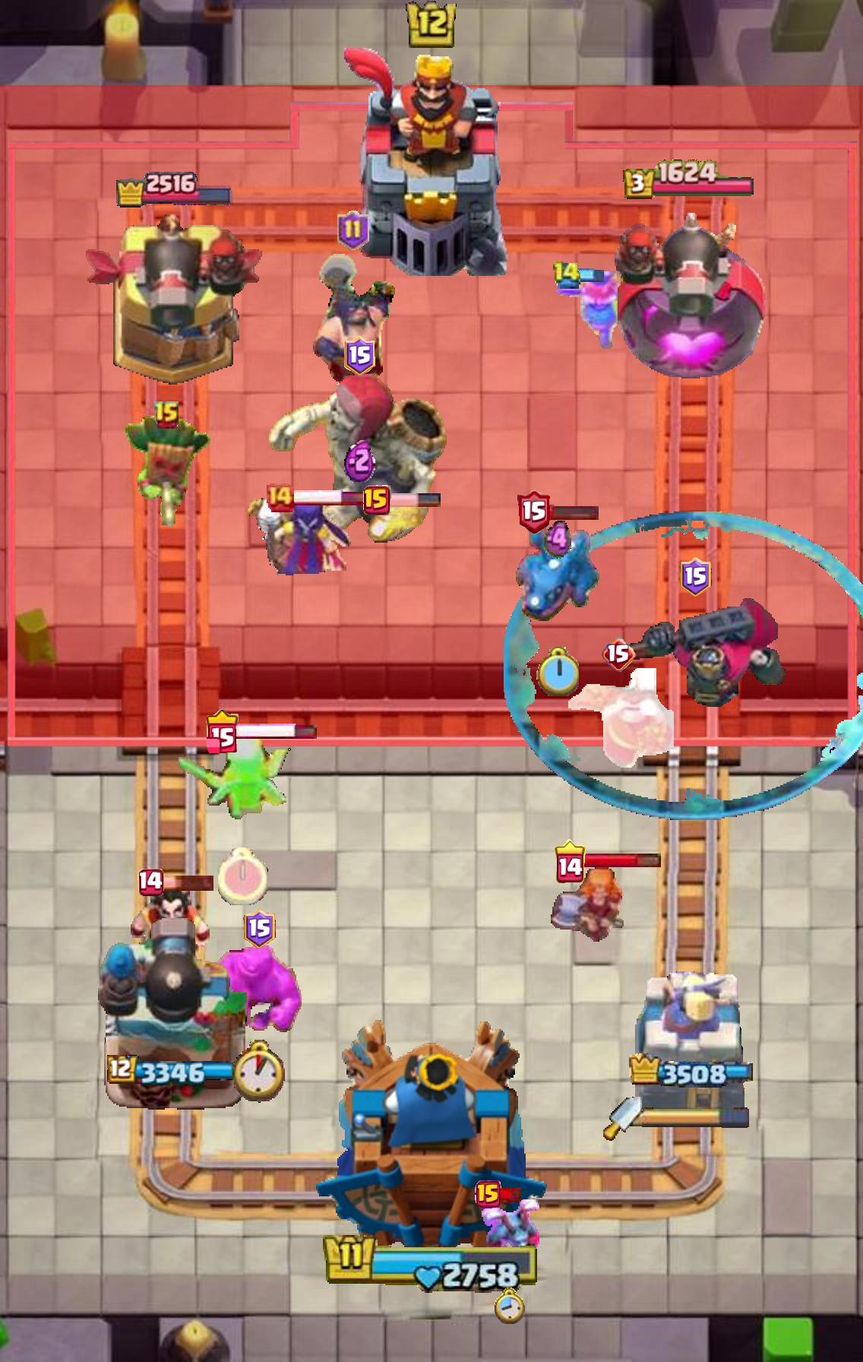bar: (234, 721, 318, 741), (291, 489, 373, 506), (581, 853, 662, 869), (160, 873, 216, 892), (546, 504, 599, 521), (387, 493, 441, 508), (498, 1186, 523, 1203)
bar-level: (517, 490, 550, 534), (205, 709, 238, 753), (554, 839, 585, 883), (243, 909, 276, 949), (343, 336, 375, 376), (680, 557, 712, 597), (337, 211, 369, 250), (602, 637, 637, 672), (264, 483, 295, 513), (153, 401, 181, 431), (363, 485, 391, 515), (474, 1181, 501, 1209), (137, 869, 164, 896)
